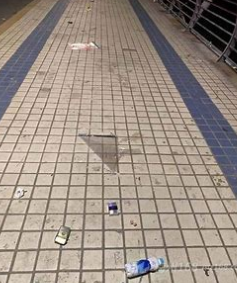garbage: (122, 251, 174, 279), (59, 39, 99, 52), (56, 224, 74, 250), (105, 198, 126, 216), (12, 185, 27, 203), (67, 20, 77, 29)
